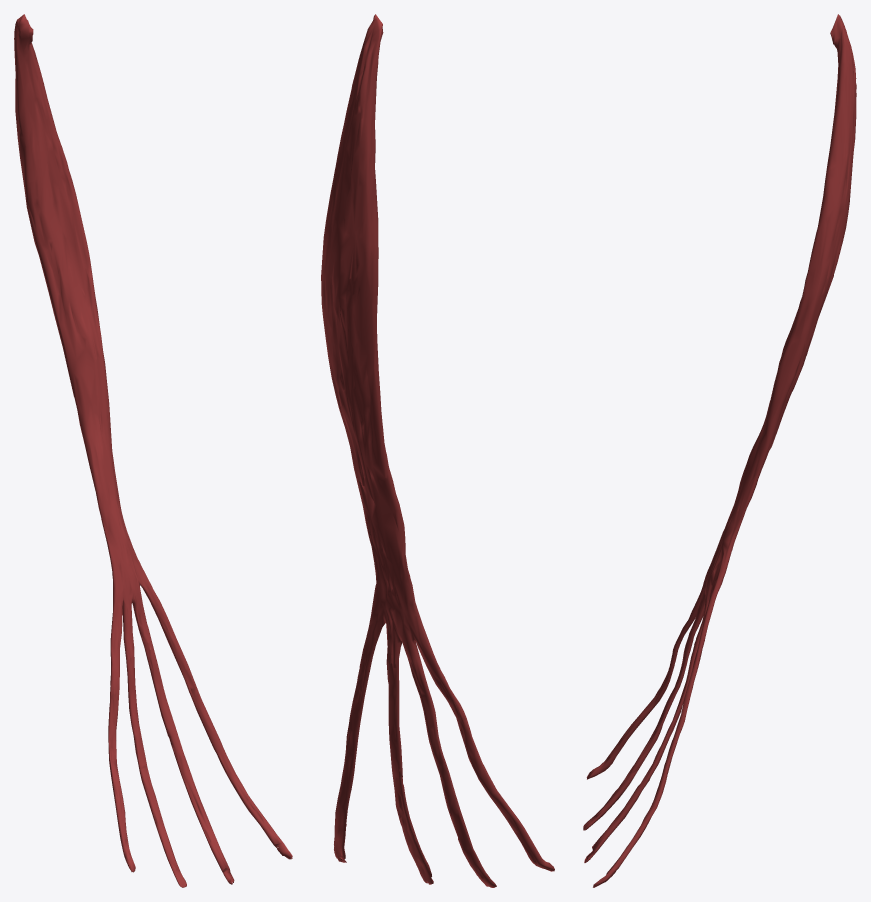
File: extensor-digitorum-l.glb
3 renders of one model, left to right at view 1: azimuth 30°, elevation 25°; view 2: azimuth 150°, elevation 25°; view 3: azimuth 270°, elevation 25°, orthographic. The views are drawn at different scales.
Visible parts, largest first — view 1: Extensor digitorum.l; view 2: Extensor digitorum.l; view 3: Extensor digitorum.l.
Part boxes in pixels (left/top/right/bottom): Extensor digitorum.l: left=14, top=14, right=292, bottom=887; Extensor digitorum.l: left=321, top=14, right=554, bottom=887; Extensor digitorum.l: left=583, top=14, right=856, bottom=887.
Size of the model in its own units: 0.0853 by 0.3946 by 0.121.
